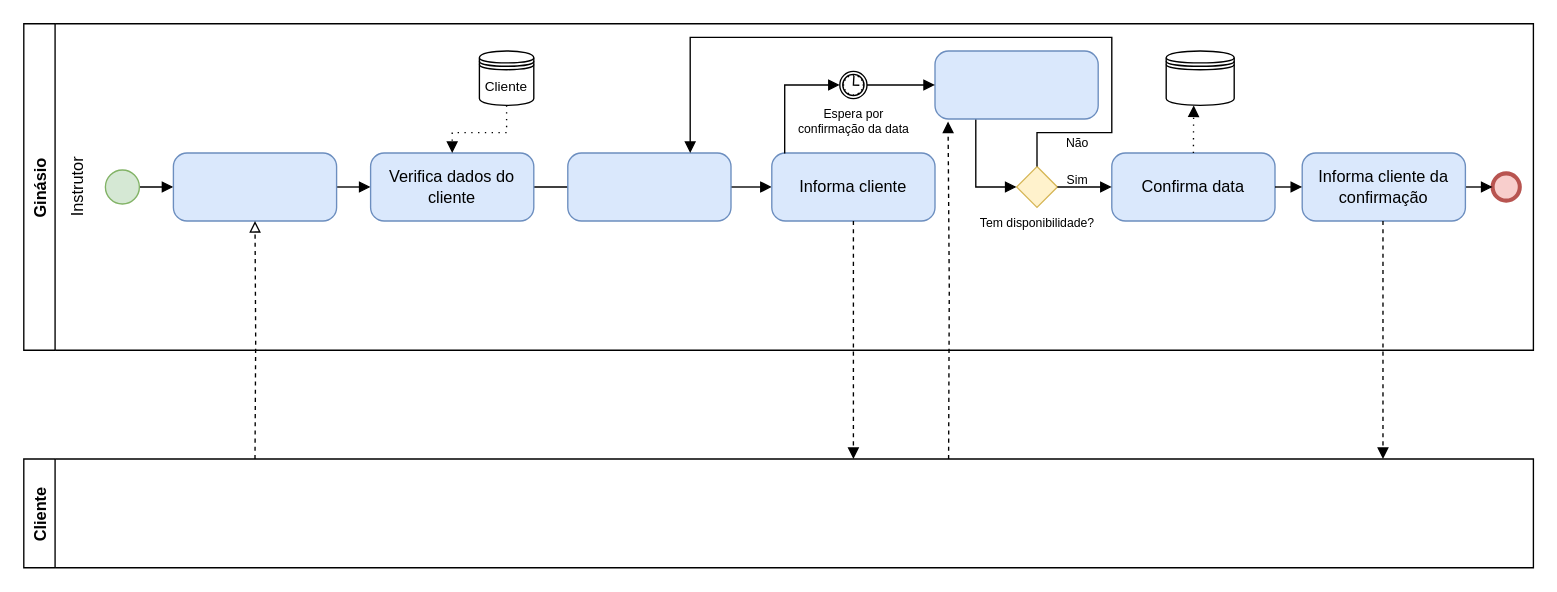
This 1557x592 diagram has some shape labels left out. The centre of each missing label's shape, as x and y in pixels:
"Avaliação" belongs at (x=1199, y=77).
"Escolhe data da avaliação" belongs at (x=648, y=186).
"Recebe pedido de avaliação" belongs at (x=254, y=186).
"Recebe resposta do cliente" belongs at (x=1016, y=84).
